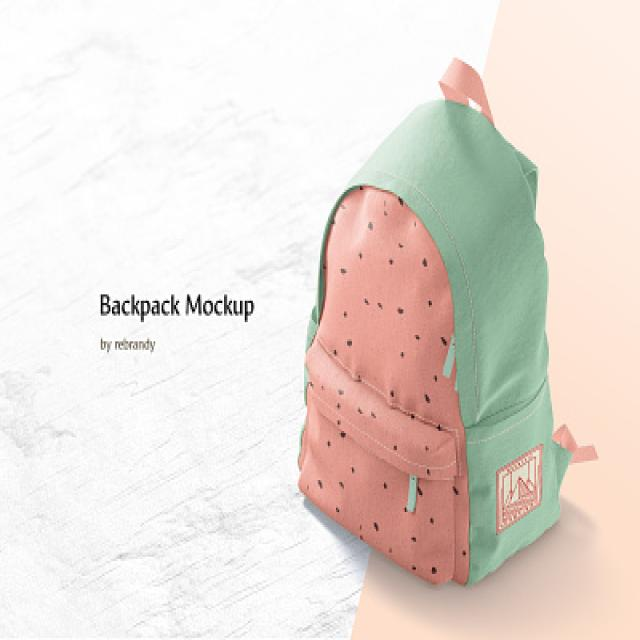backpack: (297, 57, 598, 588)
